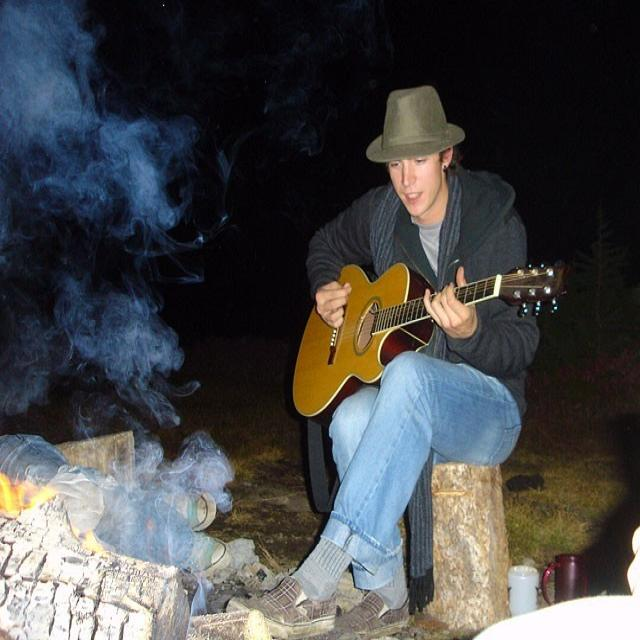guitar: (290, 258, 573, 424)
